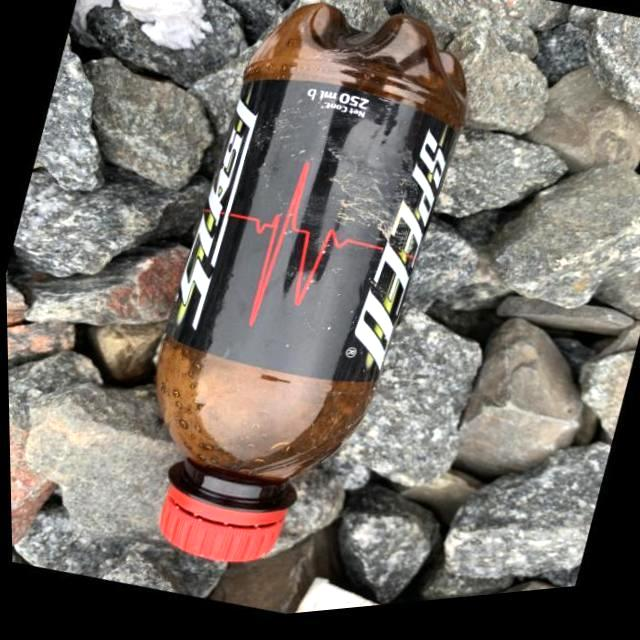bottle: (96, 0, 486, 592)
